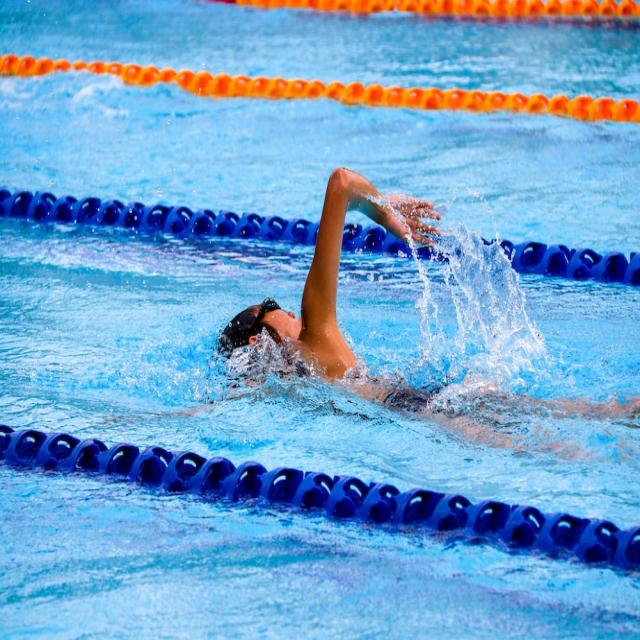Swimming: (210, 162, 624, 468)
